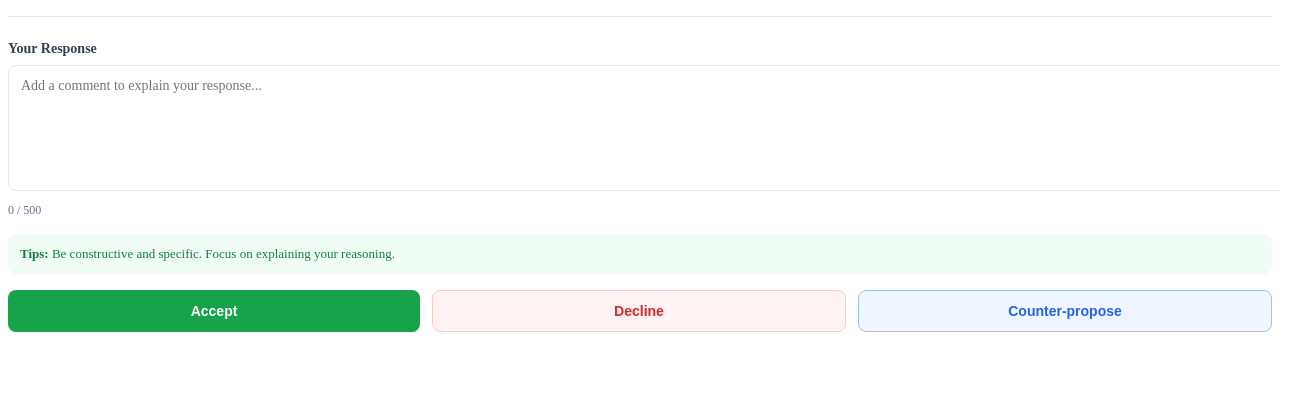
it: ProposalResponseForm - Story 34.3 › decline flow › should require comment for decline
What coordinates should you click on to do the following:
click the button "Decline"
I would click on:
 (639, 311)
Its box is [432,290,846,332].
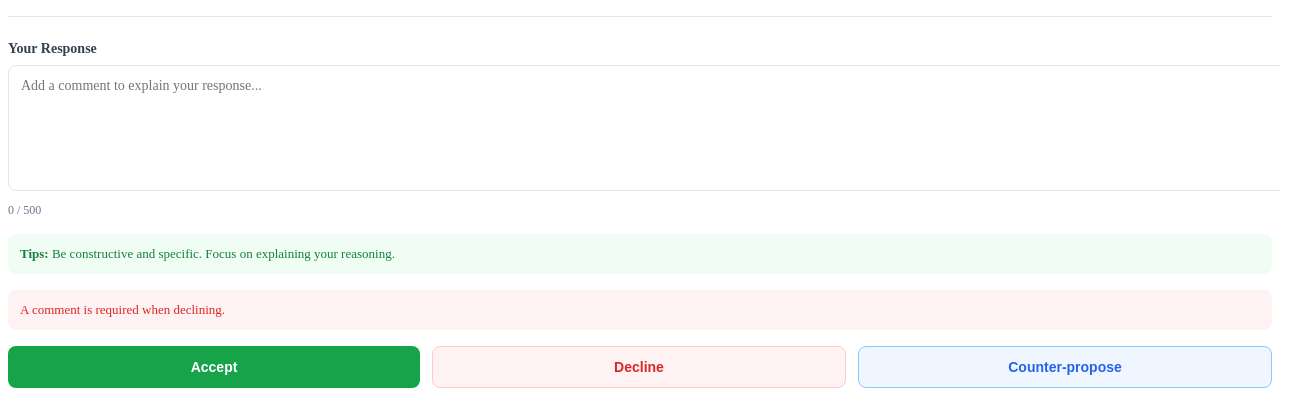
Expected: the text "A comment is required when declining." is shown, [8,290,1272,330]
